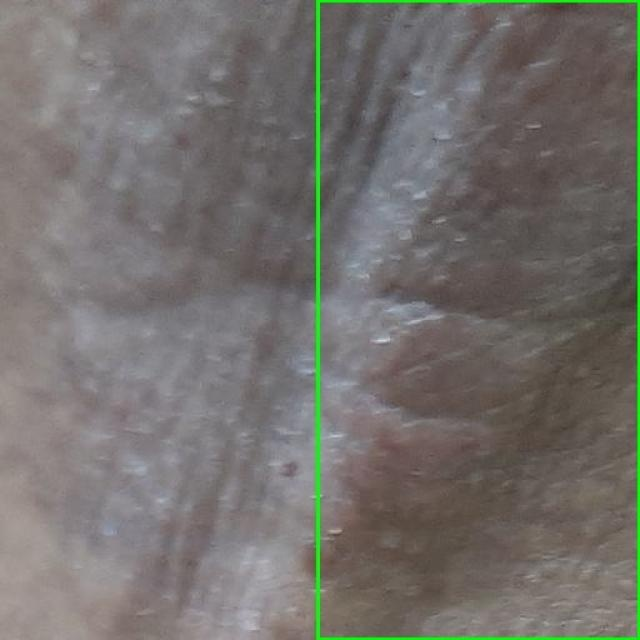Tinea Corporis: (318, 0, 639, 639)
